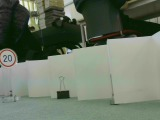speed_20: (1, 47, 18, 68)
